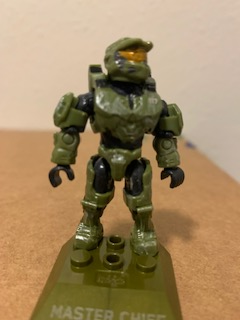chief: (49, 35, 186, 256)
spartan: (47, 33, 184, 254)
